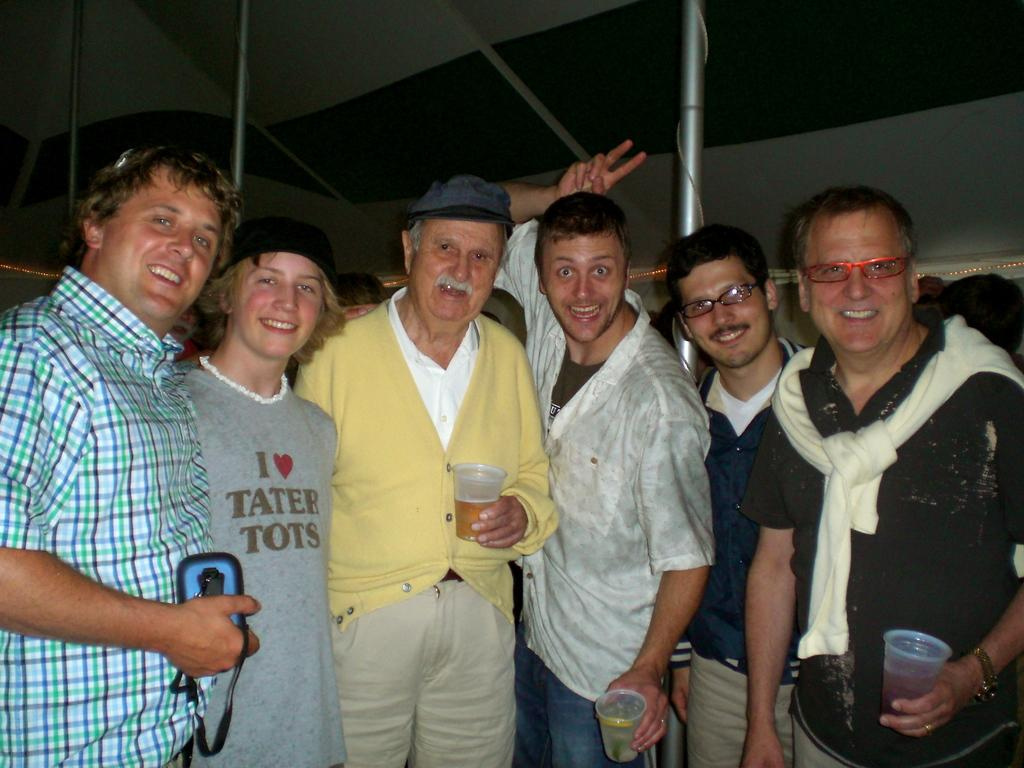Hat: (410, 177, 514, 228)
